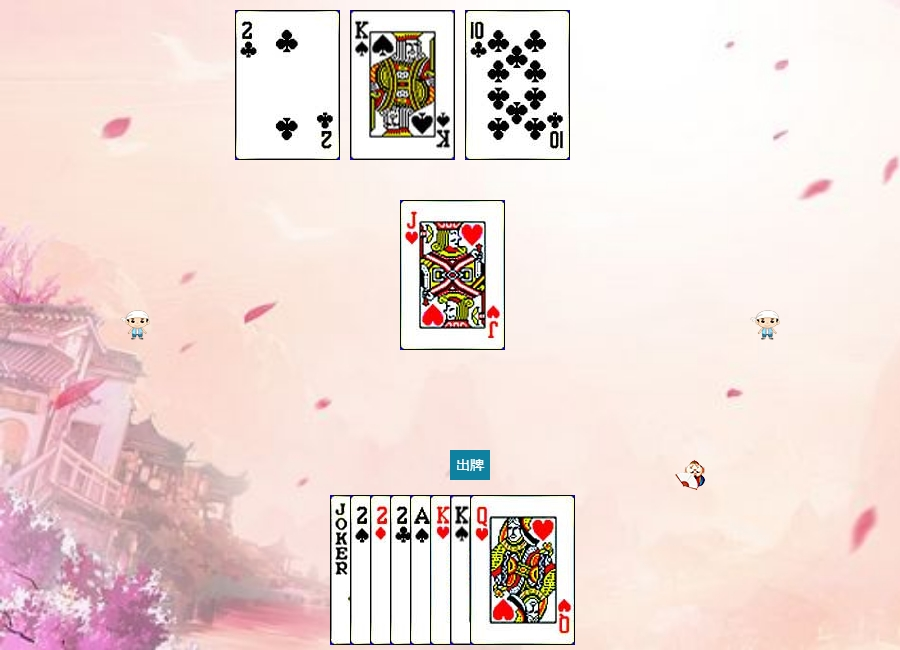10~2: (465, 10, 570, 160)
11~3: (400, 200, 505, 350)
12~3: (470, 495, 575, 645)
13~3: (430, 495, 535, 645)
13~4: (350, 10, 455, 160), (450, 495, 555, 645)
14~4: (410, 495, 515, 645)
15~1: (370, 495, 475, 645)
15~2: (235, 10, 340, 160), (390, 495, 495, 645)
15~4: (350, 495, 455, 645)
17~3: (330, 495, 435, 645)
